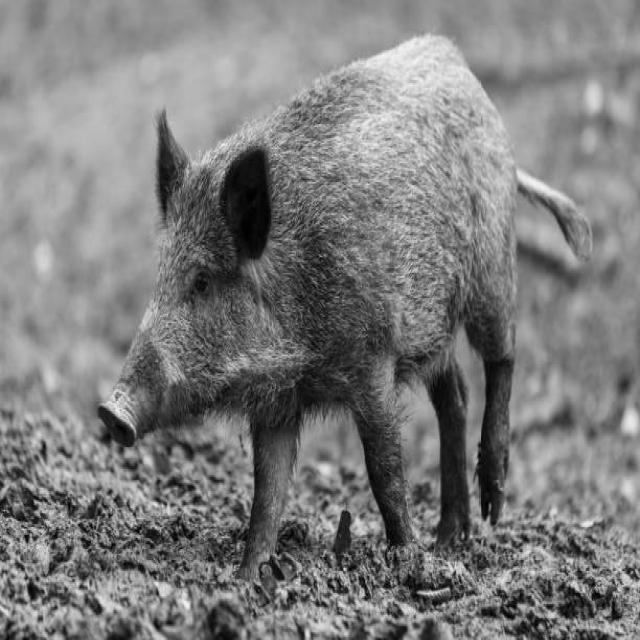boar: (98, 36, 593, 580)
